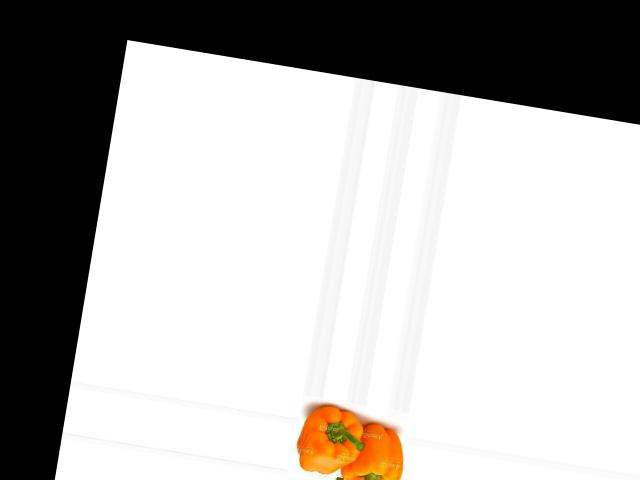bell_pepper: (331, 417, 410, 480)
